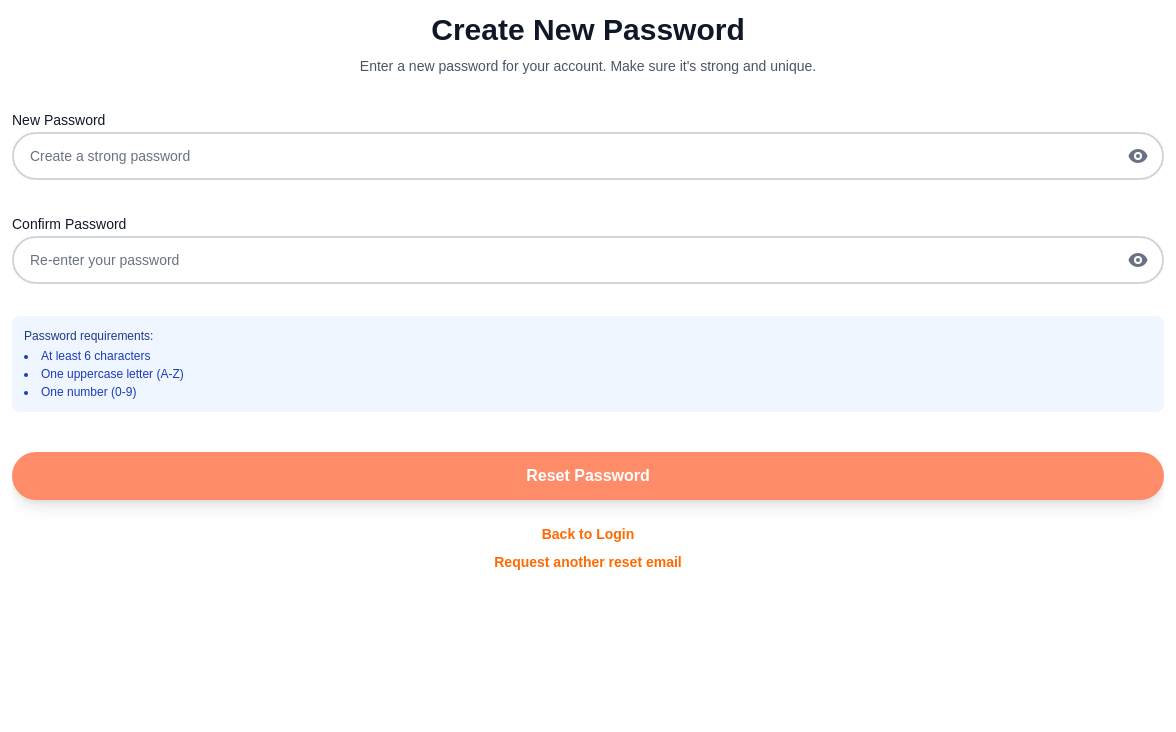
Test: ResetPasswordForm › Form validation › shows error when passwords do not match
Type "NewPass1" into the password field labelled "New Password".
click(588, 156); type("NewPass1")  # box [12,132,1164,180]
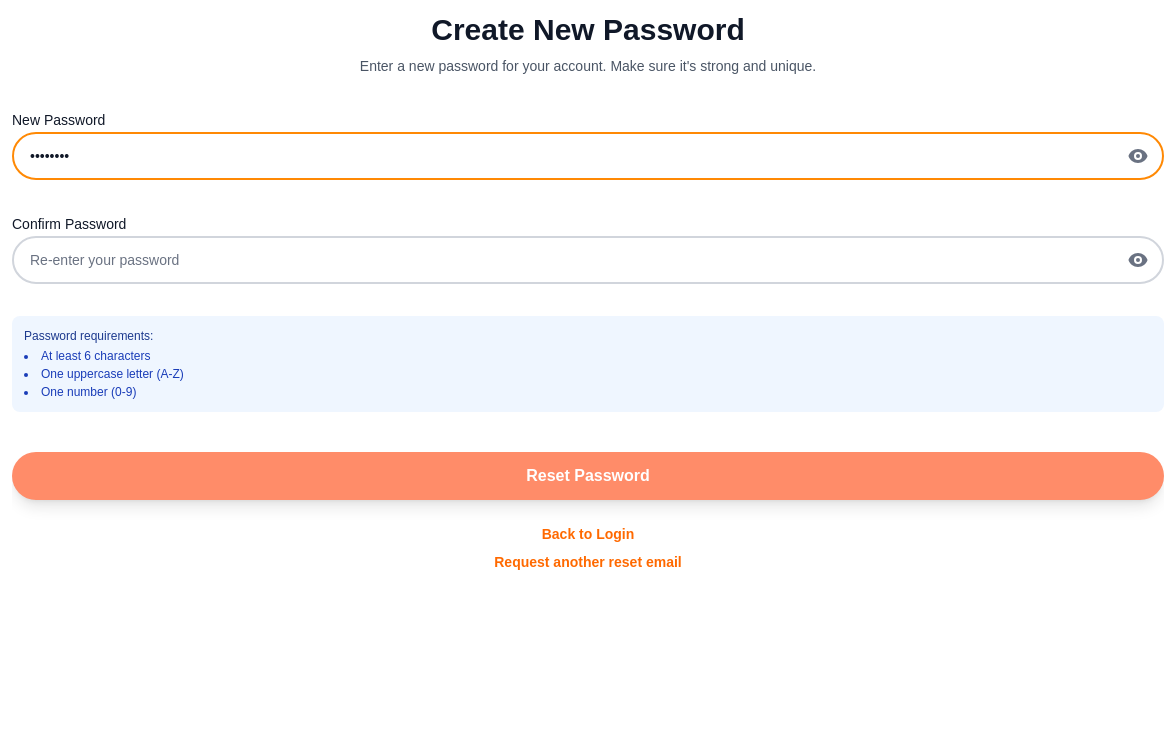
Type "Different1" into the password field labelled "Confirm Password".
click(588, 260); type("Different1")  # box [12,236,1164,284]
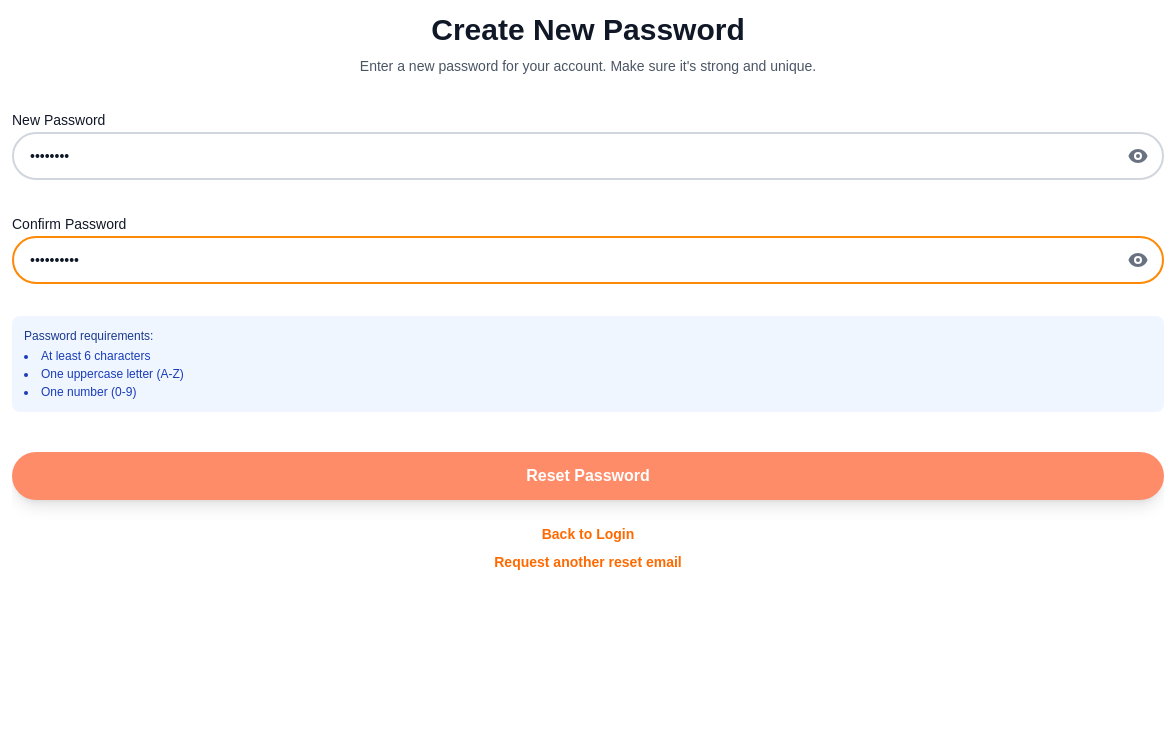
Click the button "Reset Password".
click(588, 476)  # box [12,452,1164,500]
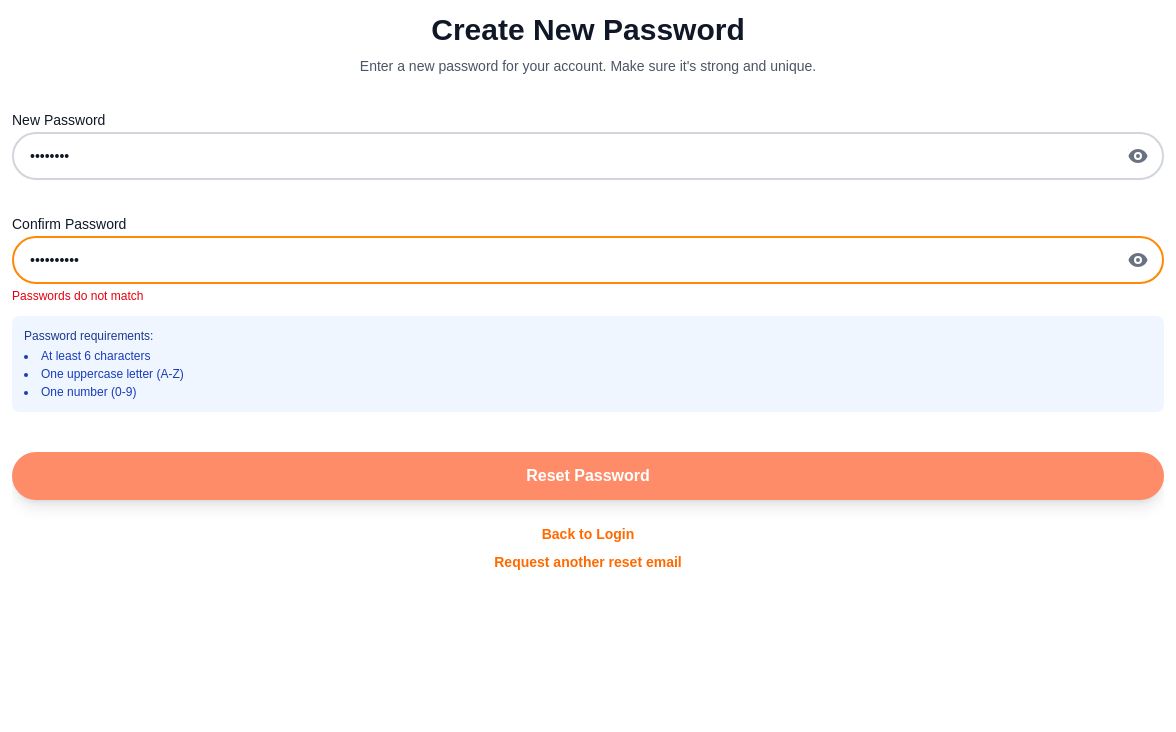
Check: the text "Passwords do not match" is shown, box [12,289,143,303]
